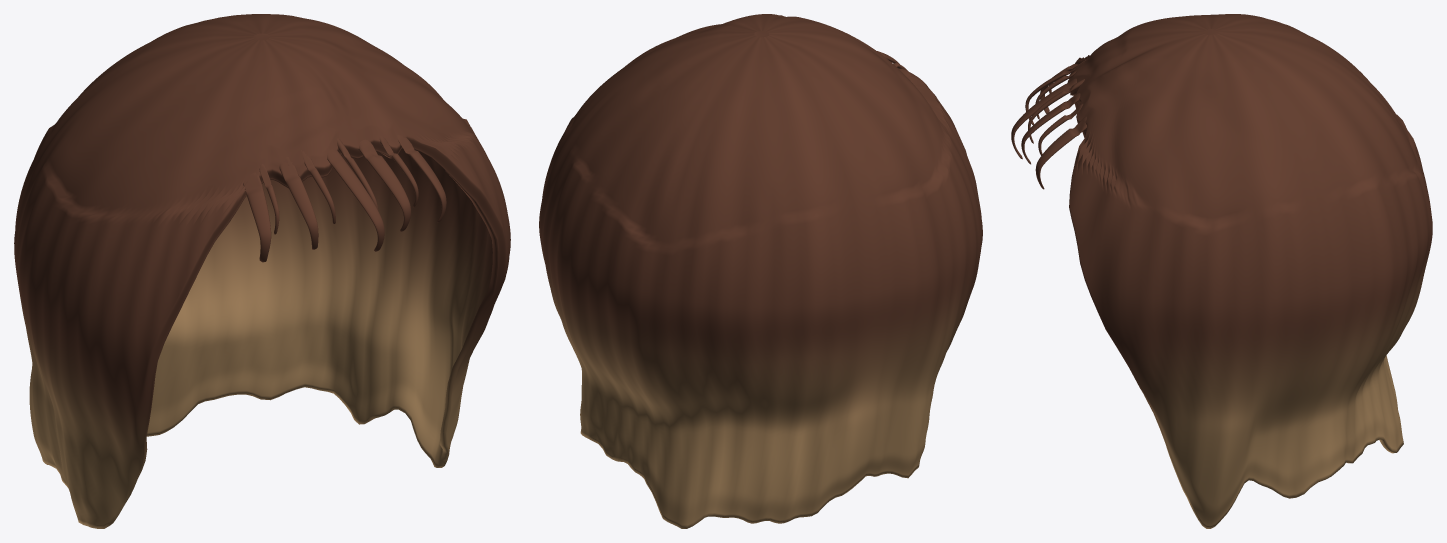
File: side-sweep-headband-ombre.glb
3 views of the same model, side by side, from view 1: azimuth 30°, elevation 25°; view 2: azimuth 150°, elevation 25°; view 3: azimuth 270°, elevation 25° (orthographic). The views are drawn at different scales.
Parts seen in each view (by area): view 1: Hair / layered lob, Fringe / arched wisp 05, Fringe / arched wisp 01, Fringe / arched wisp 07, Fringe / arched wisp 03, Fringe / arched wisp 09; view 2: Hair / layered lob; view 3: Hair / layered lob, Fringe / arched wisp 09, Fringe / arched wisp 05, Fringe / arched wisp 07.
Boxes of the visible parts, x1,y1,x2,y2 form: Hair / layered lob: (14,14,510,528); Fringe / arched wisp 05: (327,149,384,251); Fringe / arched wisp 01: (243,172,271,262); Fringe / arched wisp 07: (358,139,410,231); Fringe / arched wisp 03: (279,156,318,249); Fringe / arched wisp 09: (397,135,446,222); Hair / layered lob: (539,14,982,528); Hair / layered lob: (1067,14,1432,528); Fringe / arched wisp 09: (1035,116,1086,189); Fringe / arched wisp 05: (1011,78,1076,159); Fringe / arched wisp 07: (1021,93,1080,164).
Size of the model in its own units: 0.8388 by 0.8786 by 0.7979.
